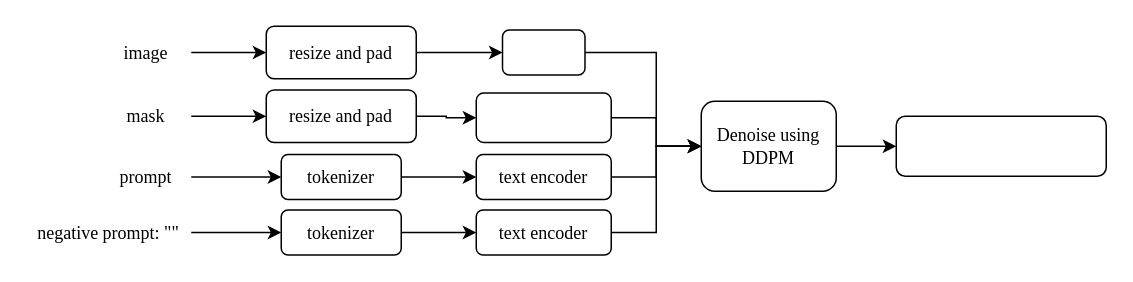
Some shapes in this 1133 by 282 pixel diagram are drawn without their labels. Here are the shapes that lost their labels. From the top down, the centre of each, then its label:
At (x=543, y=51): "VAE".
At (x=543, y=117): "transform to latent space".
At (x=1000, y=145): "remove padding and resize".
